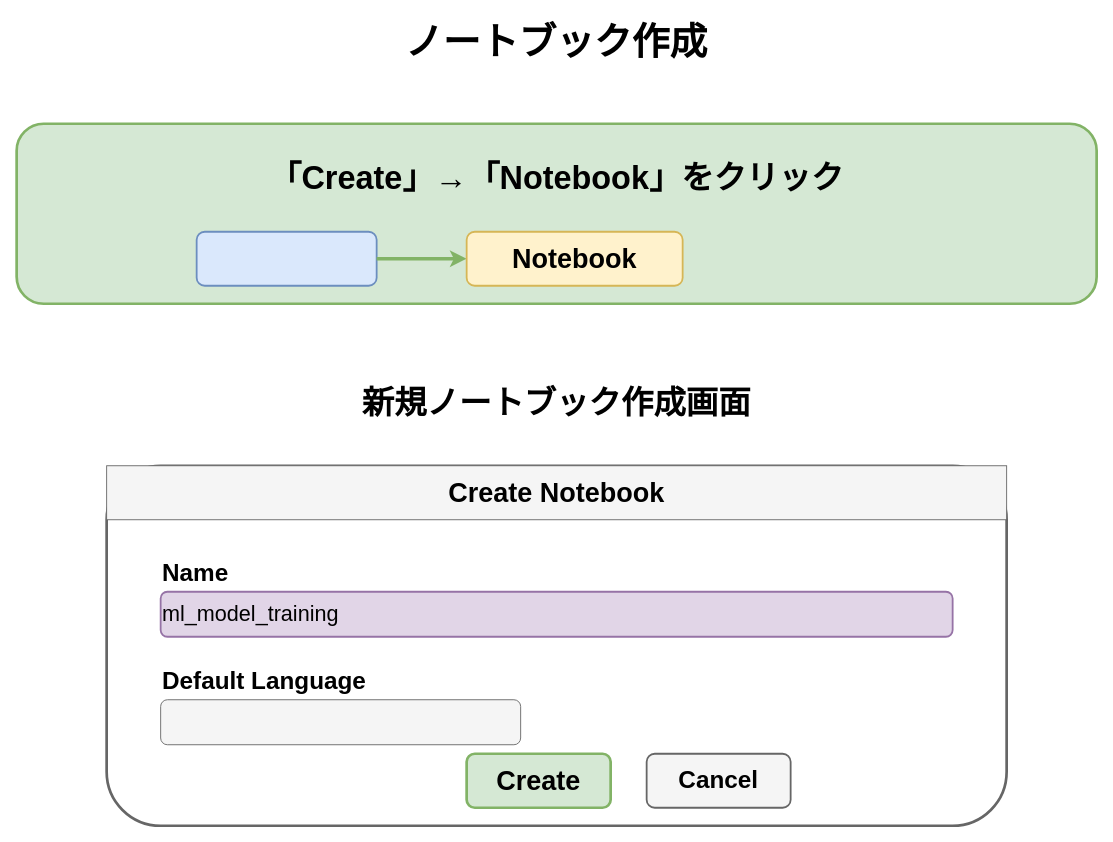
Image size: 1113x842. Some labels were removed from this diagram. Here are the shapes that lost their labels. From the top down, the centre of each, then its label:
[286,258]: + Create
[340,722]: Python ▼
